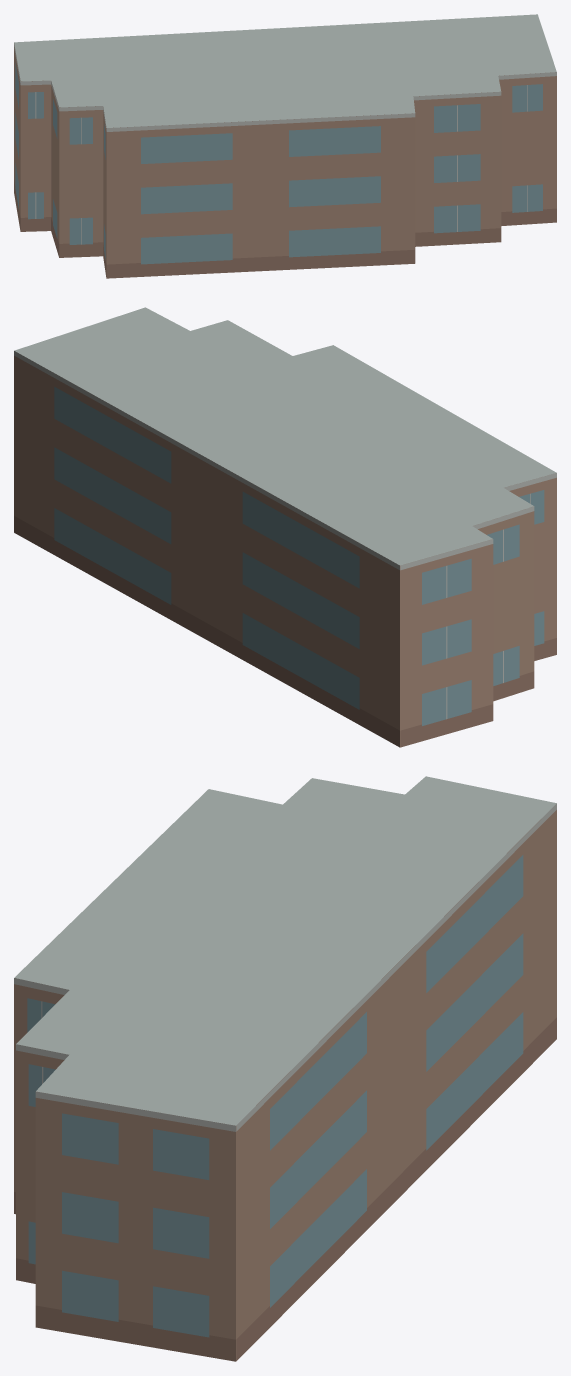
The model's file is survey-upis-32519125.glb.
The picture shows the model from 3 angles, top to bottom: view 1: azimuth 30°, elevation 25°; view 2: azimuth 150°, elevation 25°; view 3: azimuth 270°, elevation 25°; orthographic projection. The views are drawn at different scales.
Visible parts, largest first — view 1: survey-upis-32519125.tmp; view 2: survey-upis-32519125.tmp; view 3: survey-upis-32519125.tmp.
Boxes of the visible parts, x1=… form: survey-upis-32519125.tmp: x1=14, y1=14, x2=556, y2=278; survey-upis-32519125.tmp: x1=14, y1=307, x2=556, y2=747; survey-upis-32519125.tmp: x1=14, y1=776, x2=556, y2=1361.
Size of the model in its own units: 29.07 by 9.15 by 19.08.
